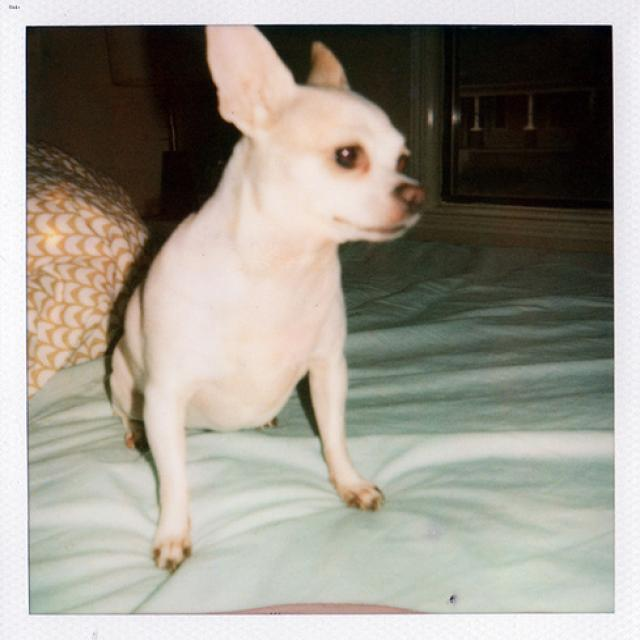dog-chihuahua: (98, 13, 436, 584)
